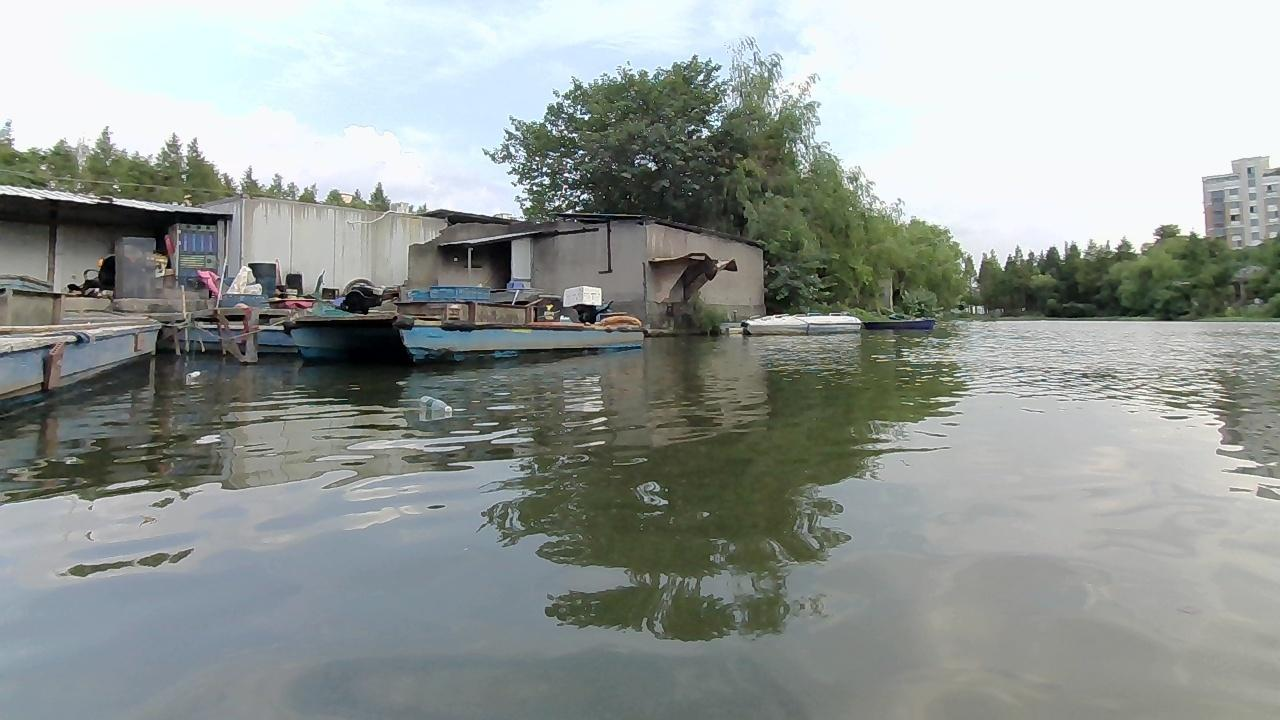bottle: (416, 391, 457, 419), (182, 368, 204, 384)
